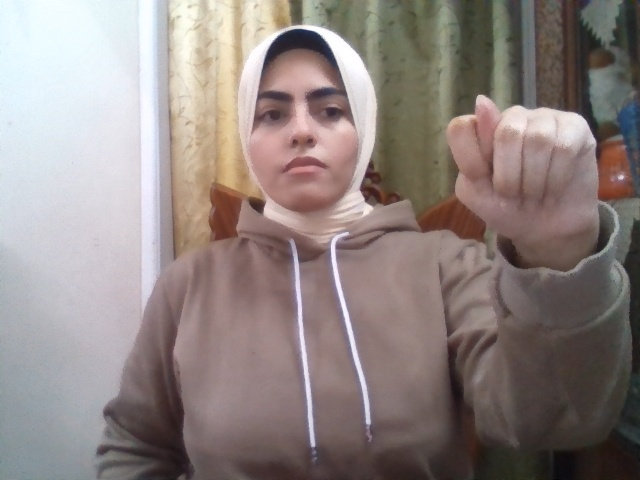T: (445, 93, 599, 238)
